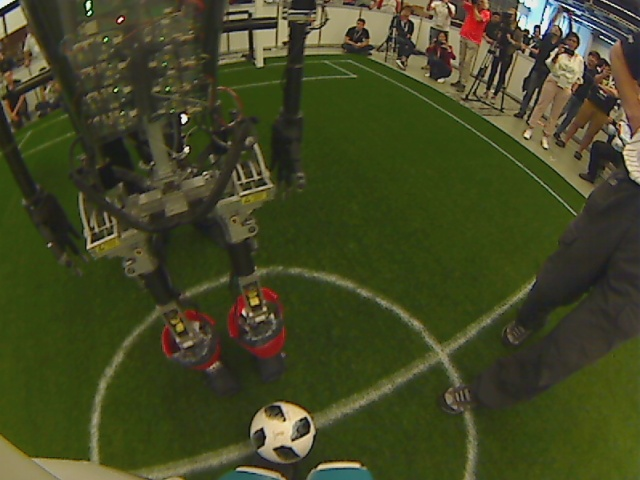ball: (246, 398, 317, 467)
